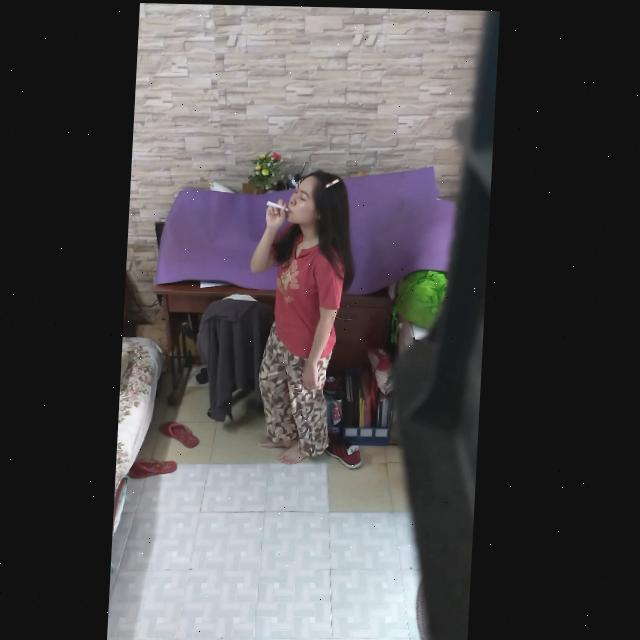cigarette: (268, 200, 292, 210)
